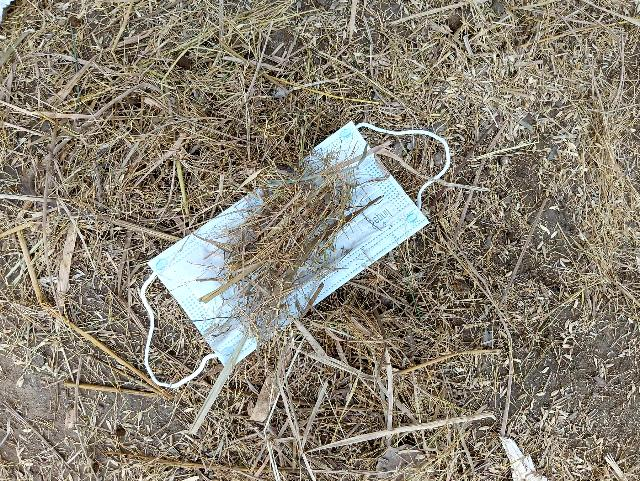mask: (45, 52, 514, 462)
